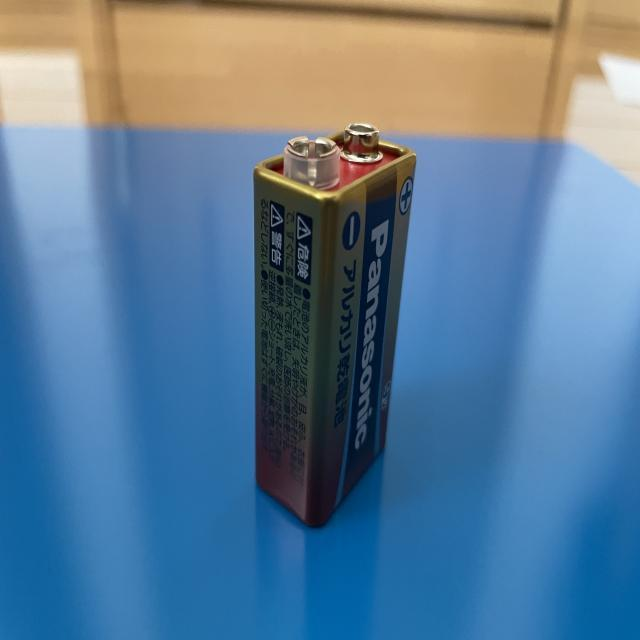9V: (255, 122, 419, 528)
